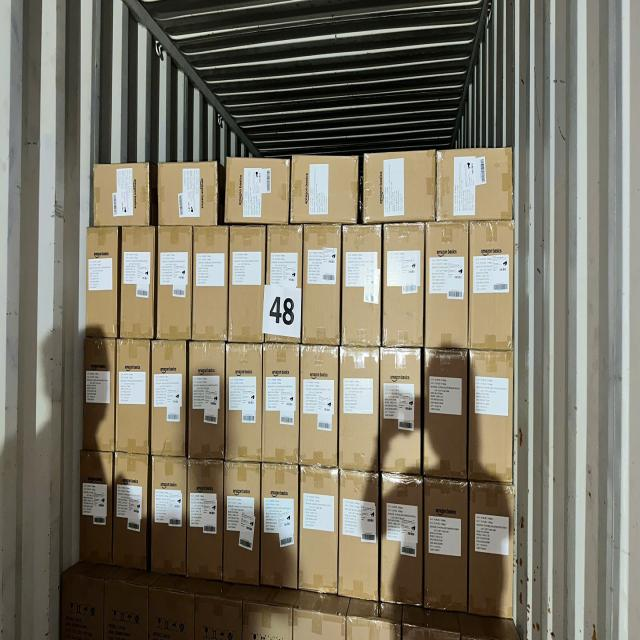Carton: (471, 485, 520, 622), (424, 476, 468, 614), (423, 345, 468, 479), (378, 472, 422, 607), (471, 347, 515, 481), (471, 223, 515, 353), (424, 224, 468, 351), (438, 151, 514, 224), (378, 344, 421, 473), (298, 468, 338, 598), (340, 469, 380, 599), (362, 153, 434, 225), (340, 344, 380, 468), (342, 227, 383, 347), (382, 225, 422, 348), (293, 153, 360, 225), (187, 459, 225, 583), (299, 344, 337, 468), (262, 464, 300, 588), (223, 462, 259, 586), (302, 227, 339, 346), (264, 343, 300, 464), (150, 458, 186, 579), (266, 227, 302, 345), (228, 228, 264, 346), (224, 343, 260, 460), (194, 228, 230, 344), (190, 342, 226, 458), (224, 161, 287, 227), (159, 163, 221, 230), (115, 455, 150, 573), (150, 341, 186, 455), (121, 228, 156, 342), (160, 229, 195, 343), (78, 452, 112, 569), (118, 339, 152, 454), (93, 164, 152, 230), (82, 338, 115, 452), (85, 226, 117, 339)
